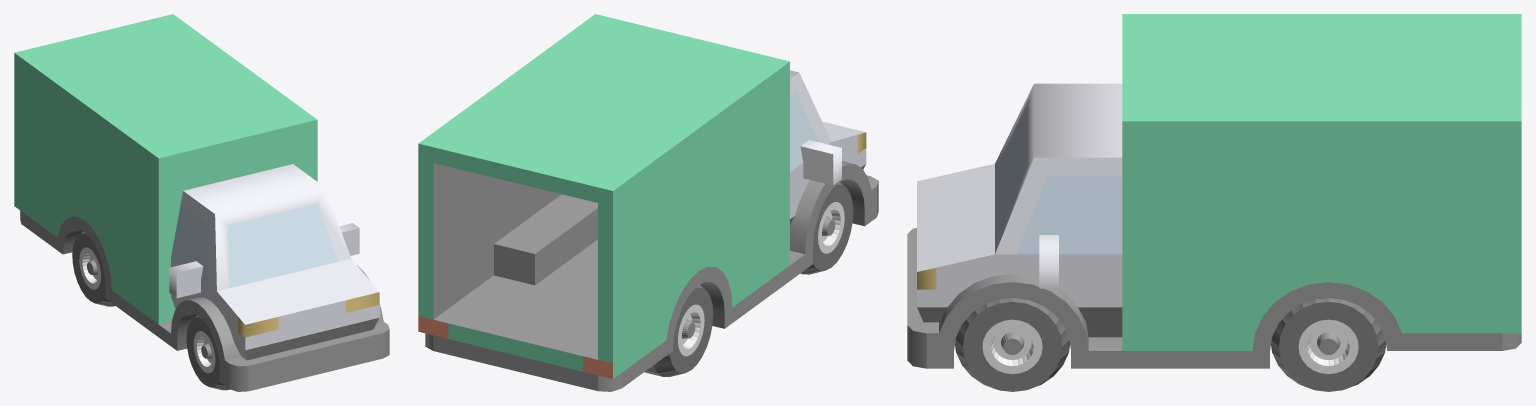
Rendered from car6.fbx.
3 renders of one model, left to right at view 1: azimuth 30°, elevation 25°; view 2: azimuth 150°, elevation 25°; view 3: azimuth 270°, elevation 25°, orthographic. The views are drawn at different scales.
Parts seen in each view (by area): view 1: car.005; view 2: car.005; view 3: car.005.
Boxes of the visible parts, left/top/right/bottom form: car.005: left=14, top=14, right=389, bottom=391; car.005: left=418, top=14, right=878, bottom=391; car.005: left=907, top=14, right=1521, bottom=391.
Size of the model in its own units: 300 by 320 by 630.
